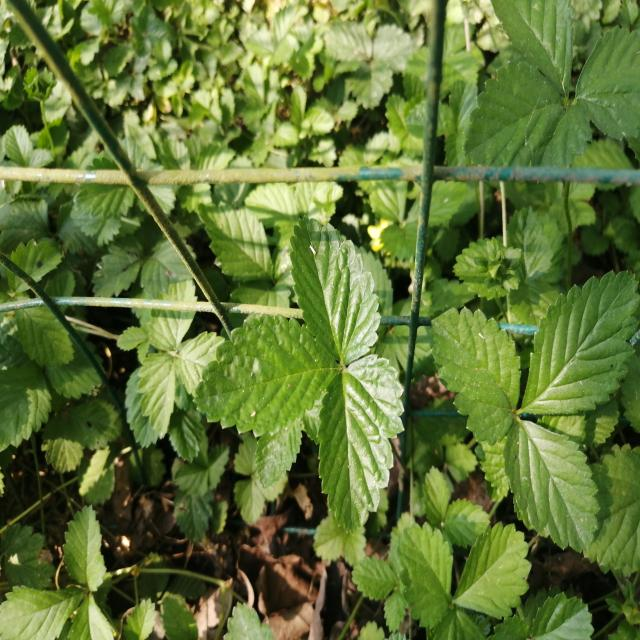Mock_strawberry: (224, 228, 396, 503)
